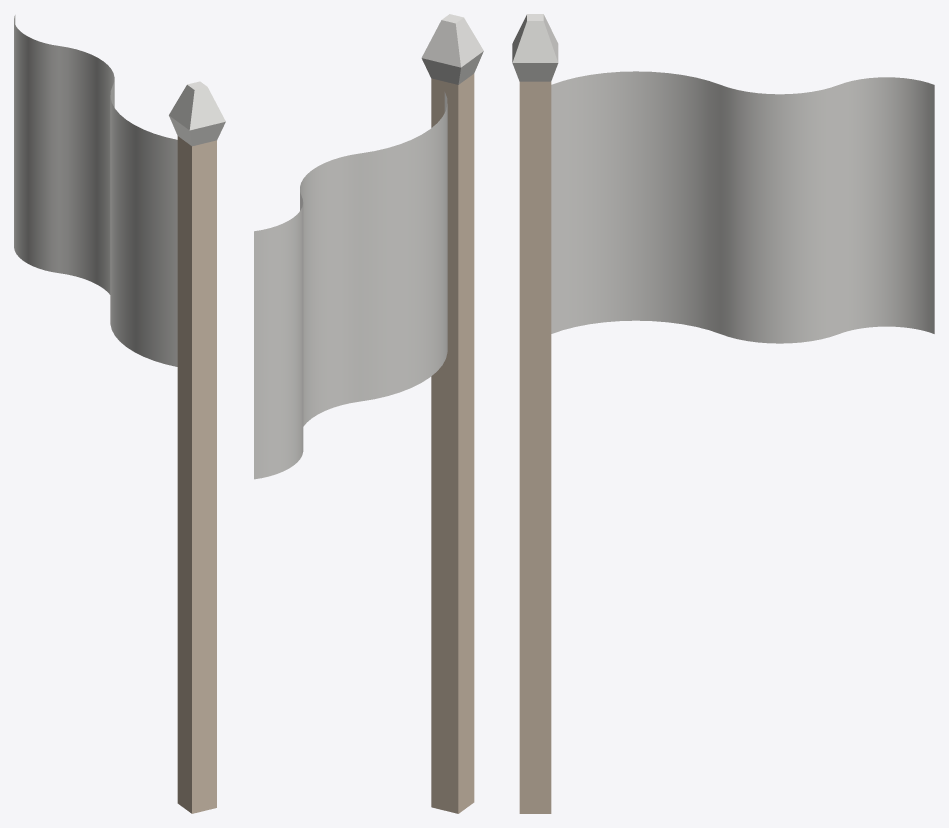
The model's file is flagWhiteWide.glb.
3 renders of one model, left to right at view 1: azimuth 30°, elevation 25°; view 2: azimuth 150°, elevation 25°; view 3: azimuth 270°, elevation 25°, orthographic. The views are drawn at different scales.
Visible parts, largest first — view 1: flagWhiteWide; view 2: flagWhiteWide; view 3: flagWhiteWide.
Boxes of the visible parts, box(x1,y1,x2,y2) form: flagWhiteWide: box(14, 15, 225, 813); flagWhiteWide: box(254, 14, 483, 813); flagWhiteWide: box(512, 14, 934, 813).
Size of the model in its own units: 0.4988 by 7.92 by 3.84.
